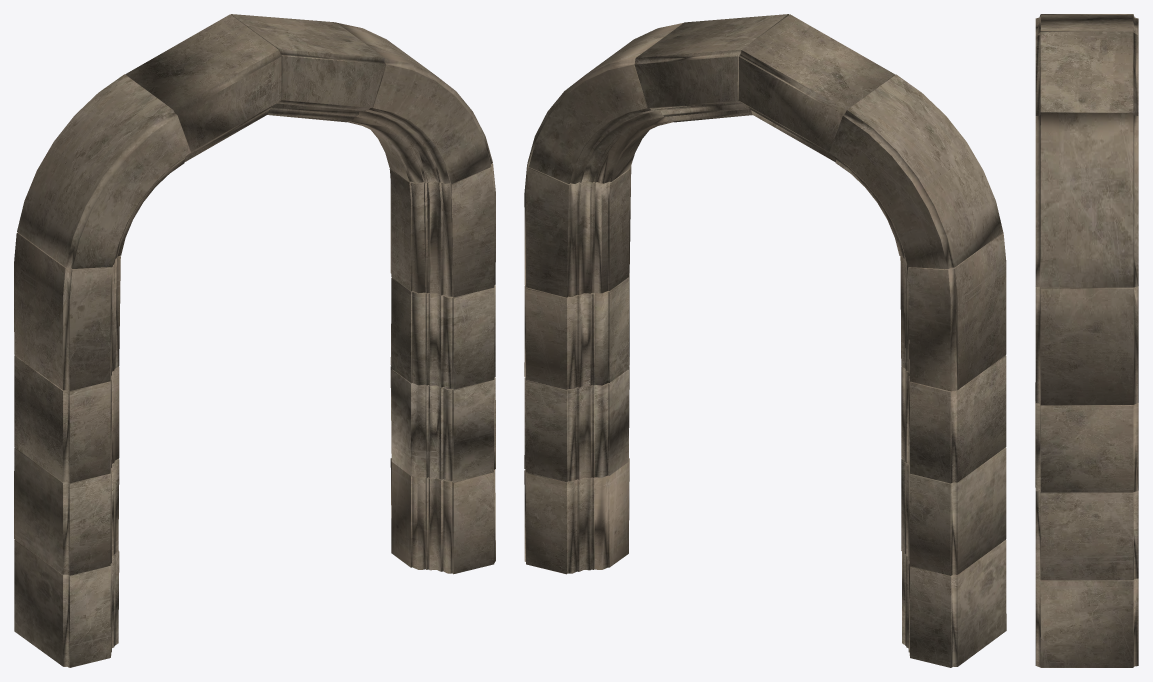
The model's file is Stone_archway.glb.
3 views of the same model, side by side, from view 1: azimuth 30°, elevation 25°; view 2: azimuth 150°, elevation 25°; view 3: azimuth 270°, elevation 25° (orthographic). The views are drawn at different scales.
Parts seen in each view (by area): view 1: stone_doorway; view 2: stone_doorway; view 3: stone_doorway.
Part boxes in pixels (box(x1,y1,x2,y2)): stone_doorway: box(14, 14, 495, 667); stone_doorway: box(524, 14, 1006, 667); stone_doorway: box(1035, 14, 1138, 667).
Size of the model in its own units: 3.69 by 4.59 by 0.8013.
1 material, 1 textured.
